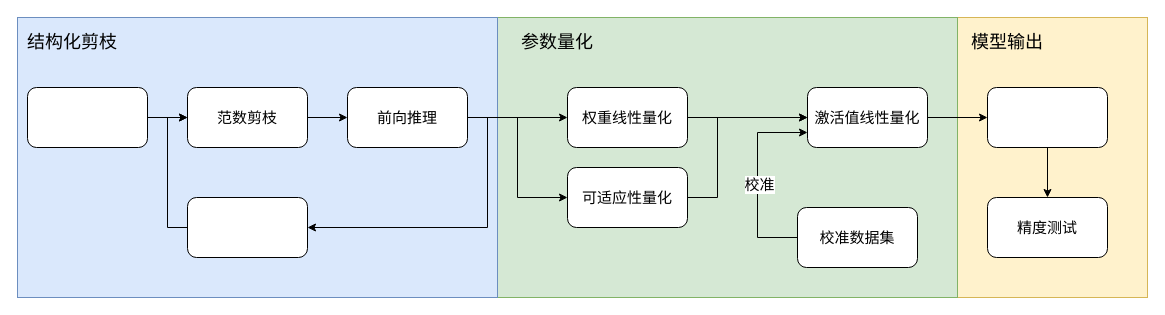
Image size: 1165x315. Some labels were removed from this diagram. Here are the shapes that lost their labels. From the top down, the centre of each, then its label:
At [87,117]: "网络初始化".
At [1047,117]: "输出".
At [247,227]: "参数更新".
